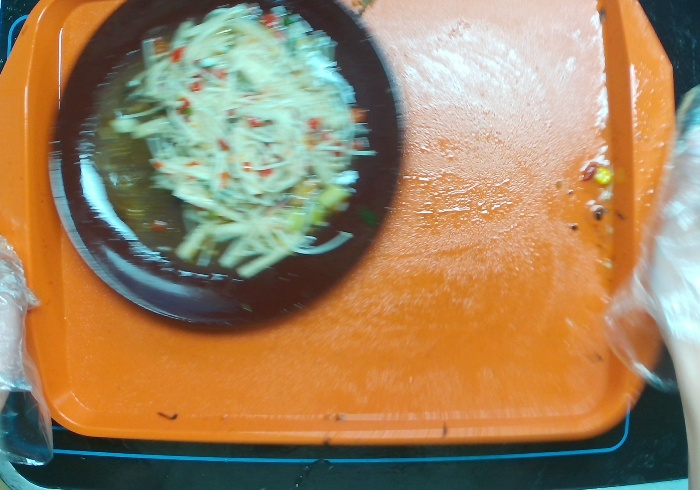HZYJPL-Ka_Fei_Yuan_Pan: (42, 1, 409, 337)
